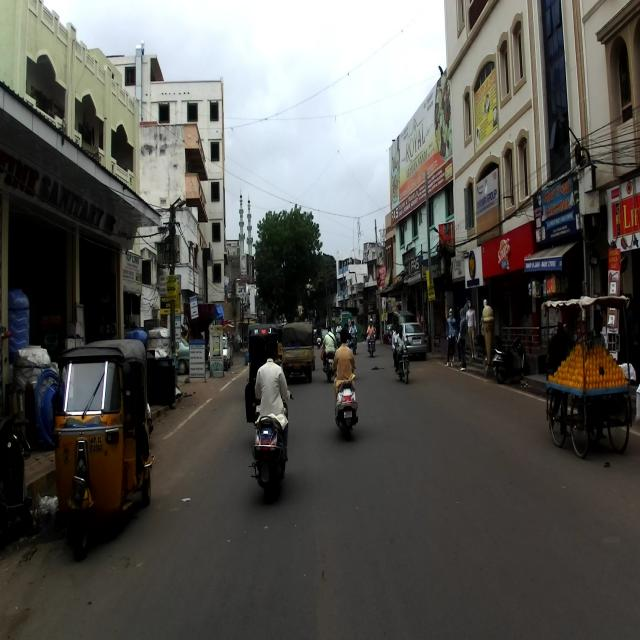autorickshaw: (51, 338, 155, 564)
scooter: (248, 376, 294, 502), (332, 364, 358, 443)
truck: (280, 319, 314, 383)
